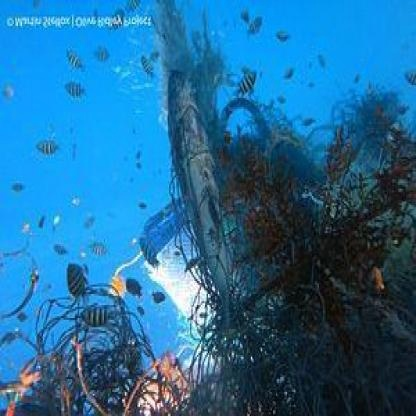net: (213, 236, 416, 416), (17, 288, 154, 416)
